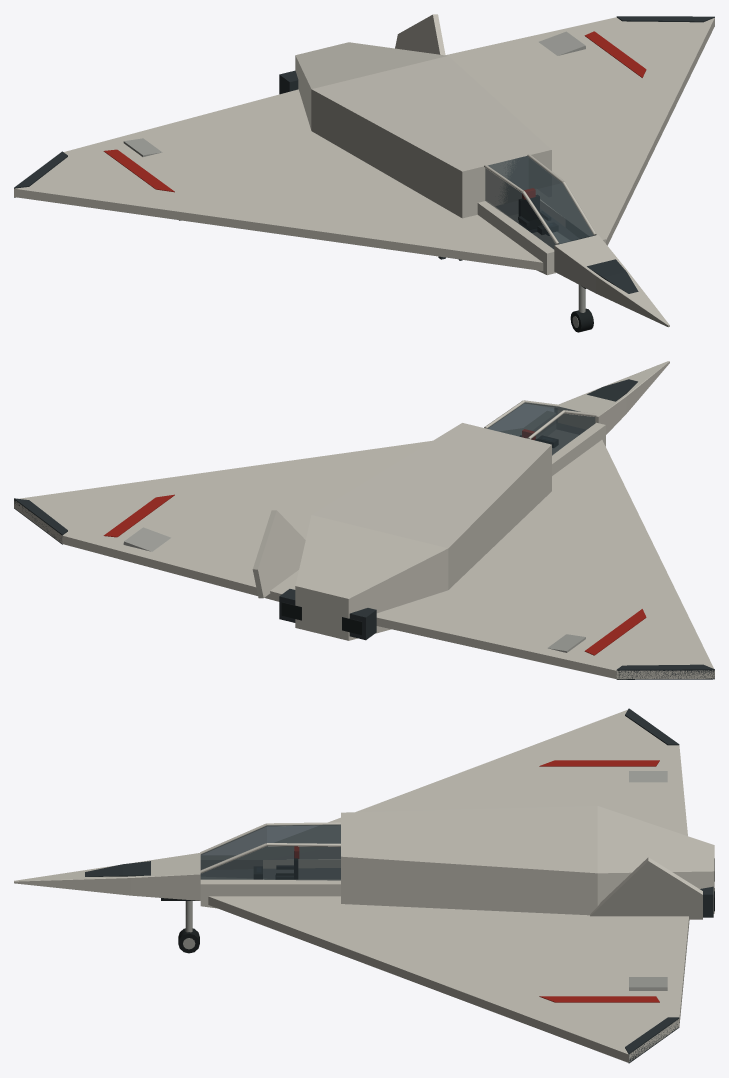
3 views of the same model, one above another, from view 1: azimuth 30°, elevation 25°; view 2: azimuth 150°, elevation 25°; view 3: azimuth 270°, elevation 25° (orthographic).
Visible parts, largest first — view 1: drone-carrier-painted, drone-carrier-glazing, carrier-fin-1-painted, crew-chair-pilot-painted, flap-right-painted, landing-gear-nose-painted; view 2: drone-carrier-painted, carrier-fin-1-painted, drone-carrier-glazing, flap-right-painted; view 3: drone-carrier-painted, drone-carrier-glazing, carrier-fin-1-painted, landing-gear-nose-painted.
Part boxes in pixels (x1,y1,x2,y2): drone-carrier-painted: [14, 16, 714, 327]; drone-carrier-glazing: [485, 156, 595, 249]; carrier-fin-1-painted: [395, 14, 445, 55]; crew-chair-pilot-painted: [518, 188, 558, 235]; flap-right-painted: [539, 31, 585, 55]; landing-gear-nose-painted: [570, 285, 593, 332]; drone-carrier-painted: [14, 361, 714, 679]; carrier-fin-1-painted: [252, 510, 305, 598]; drone-carrier-glazing: [487, 402, 595, 455]; flap-right-painted: [123, 527, 170, 551]; drone-carrier-painted: [14, 708, 714, 1063]; drone-carrier-glazing: [200, 824, 340, 880]; carrier-fin-1-painted: [590, 857, 702, 919]; landing-gear-nose-painted: [178, 901, 199, 953].
Size of the model in its own units: 110 by 19.63 by 94.74.
